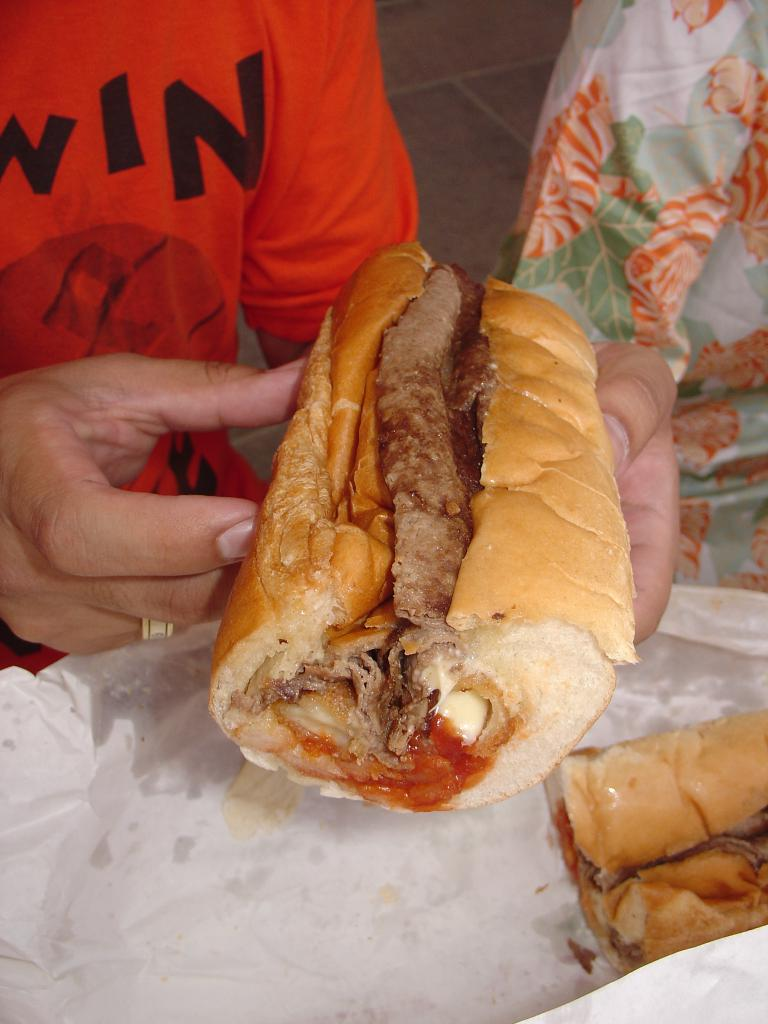person: (0, 0, 420, 664)
